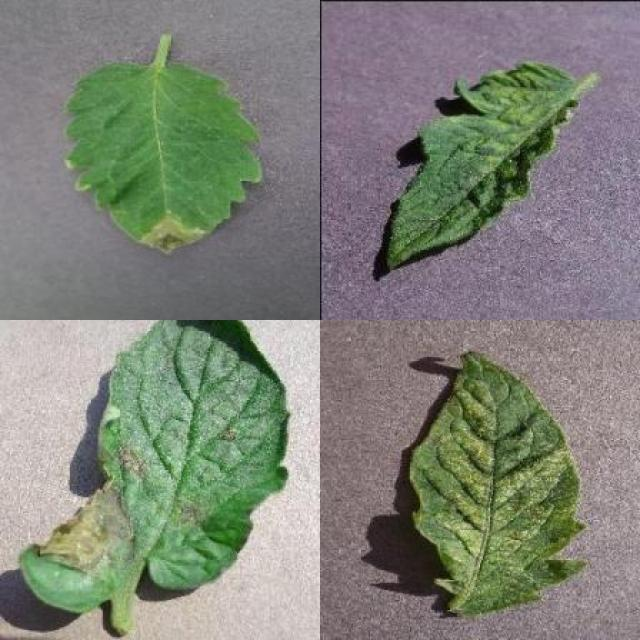Late Blight: (17, 319, 290, 616), (64, 60, 264, 257)
Mosaic Virus: (384, 59, 579, 274)
Spider Mites: (409, 352, 587, 618)
